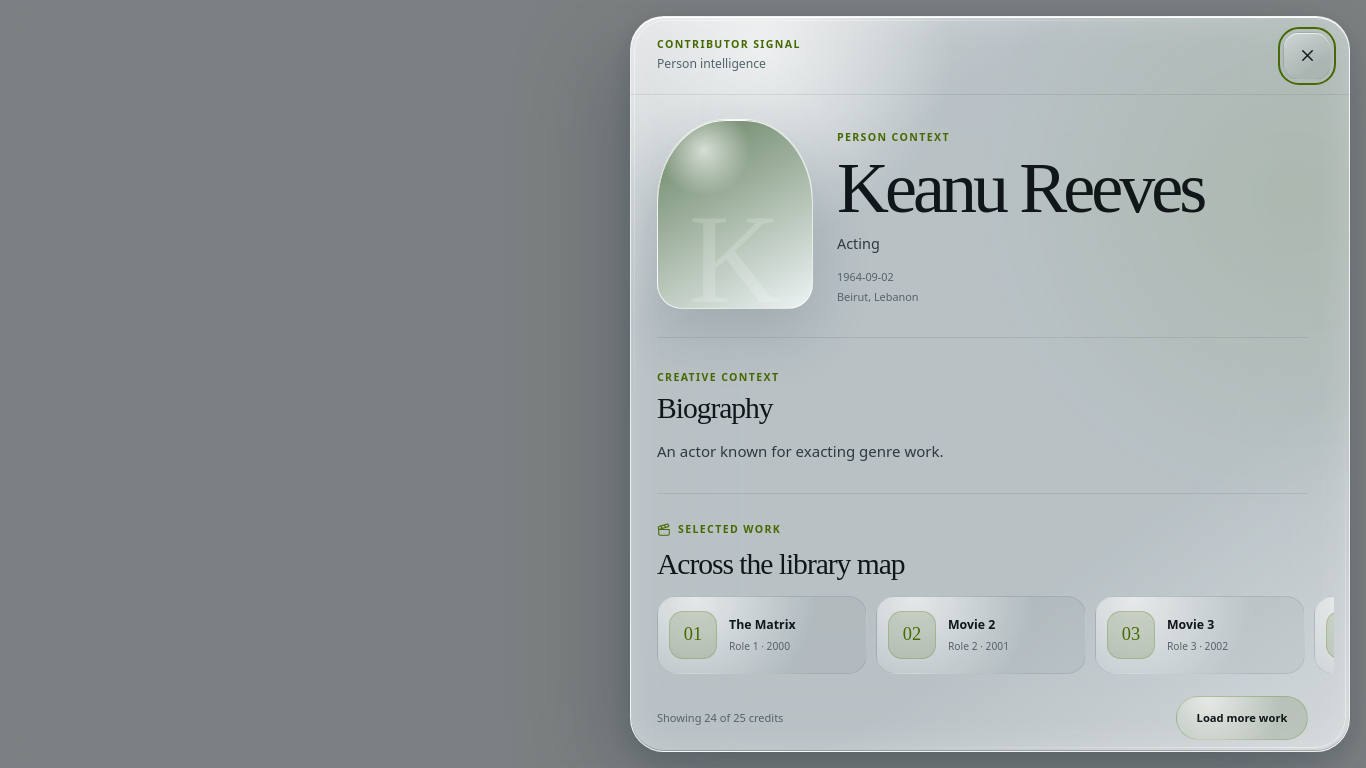
Test case: media detail drawer › keeps a failed filmography page retryable without losing loaded credits
Click the button with aria-label "Load more credits for Keanu Reeves": (1242, 718) x1=1176 y1=696 x2=1308 y2=740
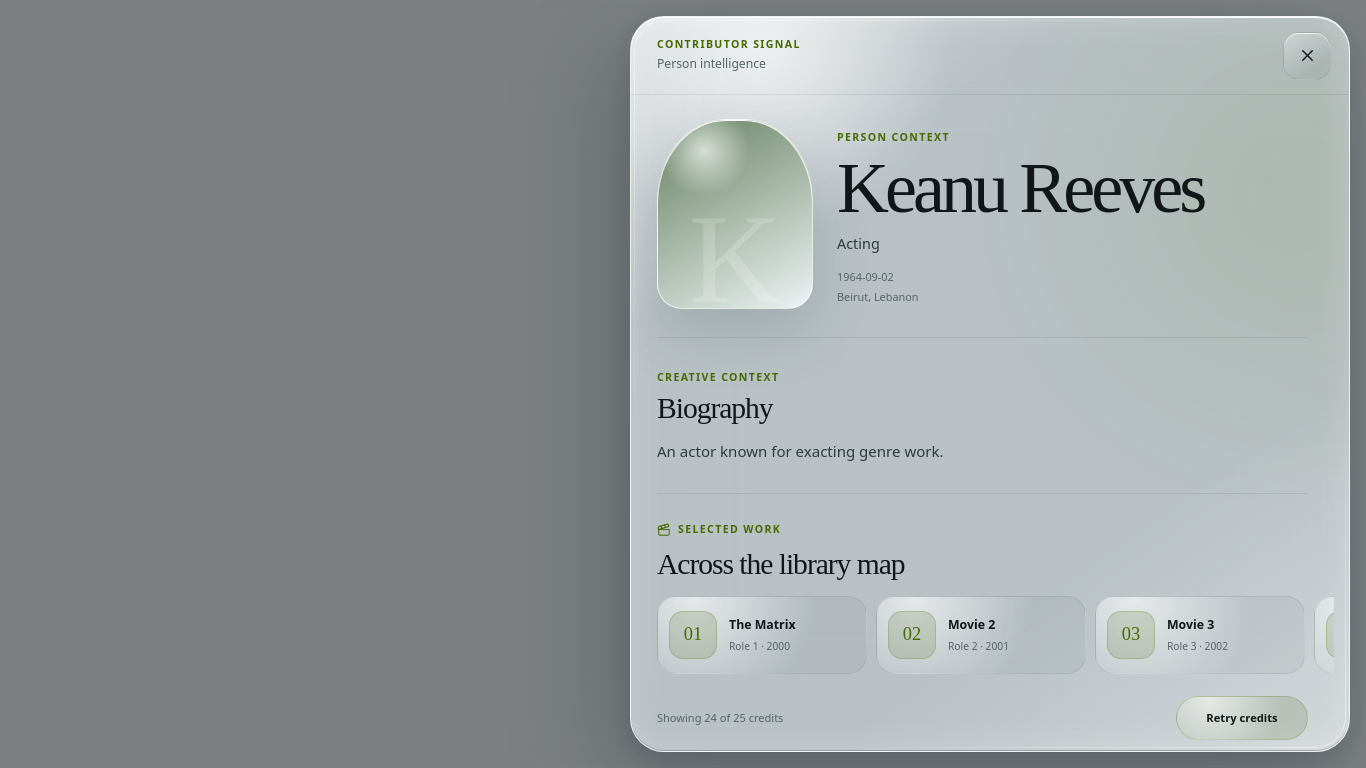
Click the button with aria-label "Retry loading credits for Keanu Reeves": (1242, 718) x1=1176 y1=696 x2=1308 y2=740
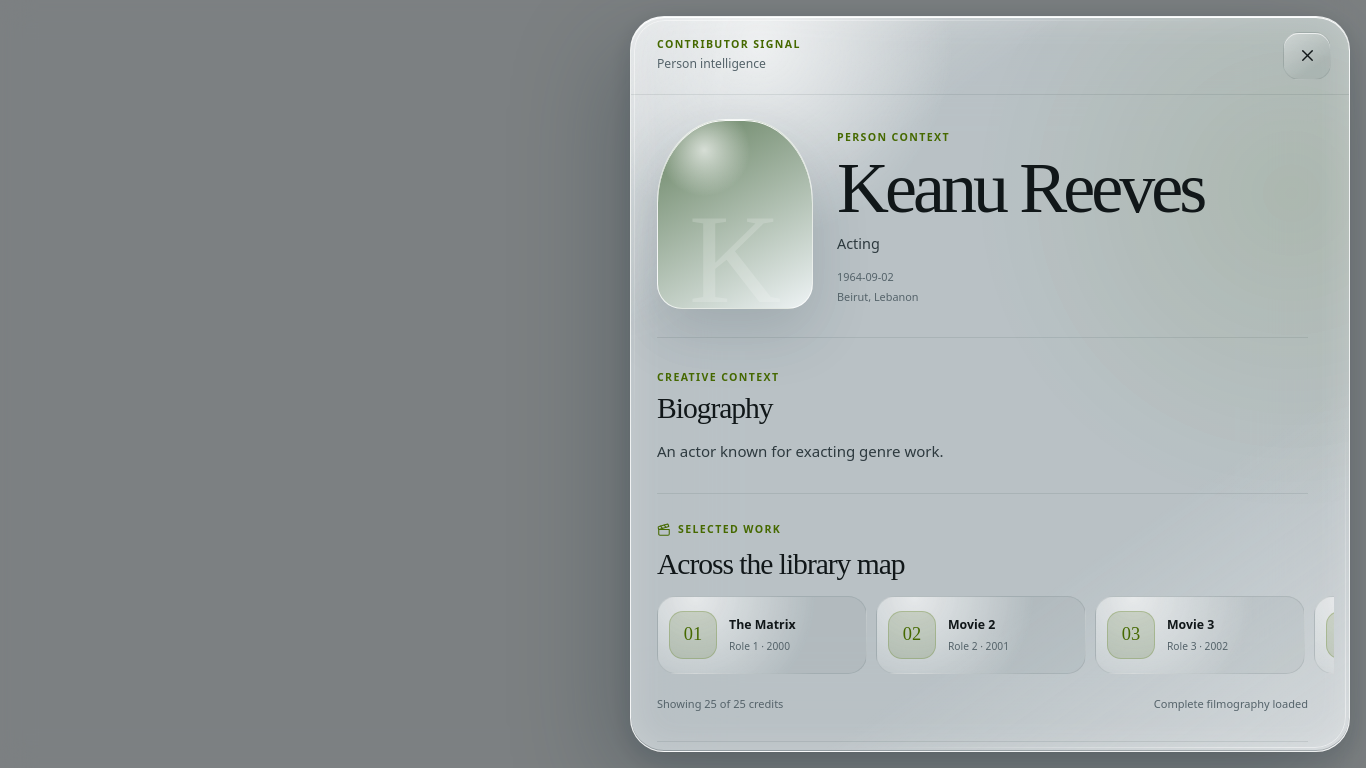
Expected: the text "The Matrix" is shown, x1=729 y1=616 x2=796 y2=633
Expected: the text "Showing 25 of 25 credits" is shown, x1=657 y1=696 x2=783 y2=713
Expected: the text "Complete filmography loaded" is shown, x1=1154 y1=696 x2=1308 y2=713
